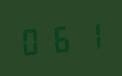one: (75, 18, 102, 52)
six: (47, 21, 74, 54)
zero: (18, 23, 45, 57)
